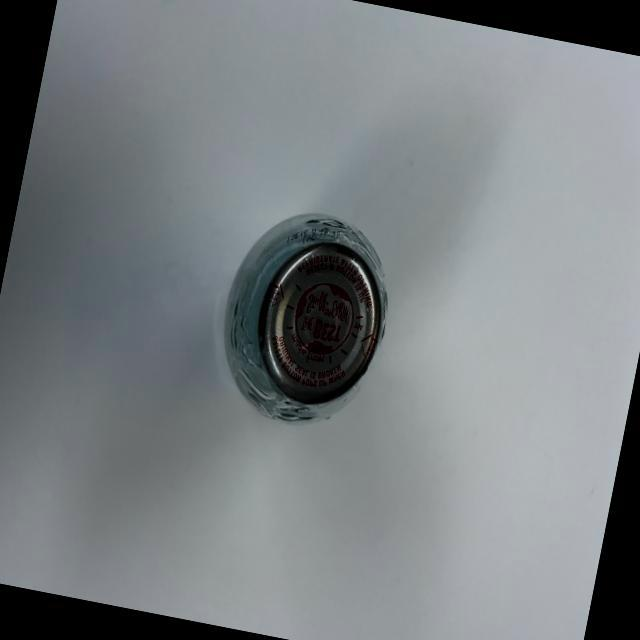metal: (190, 176, 417, 444)
